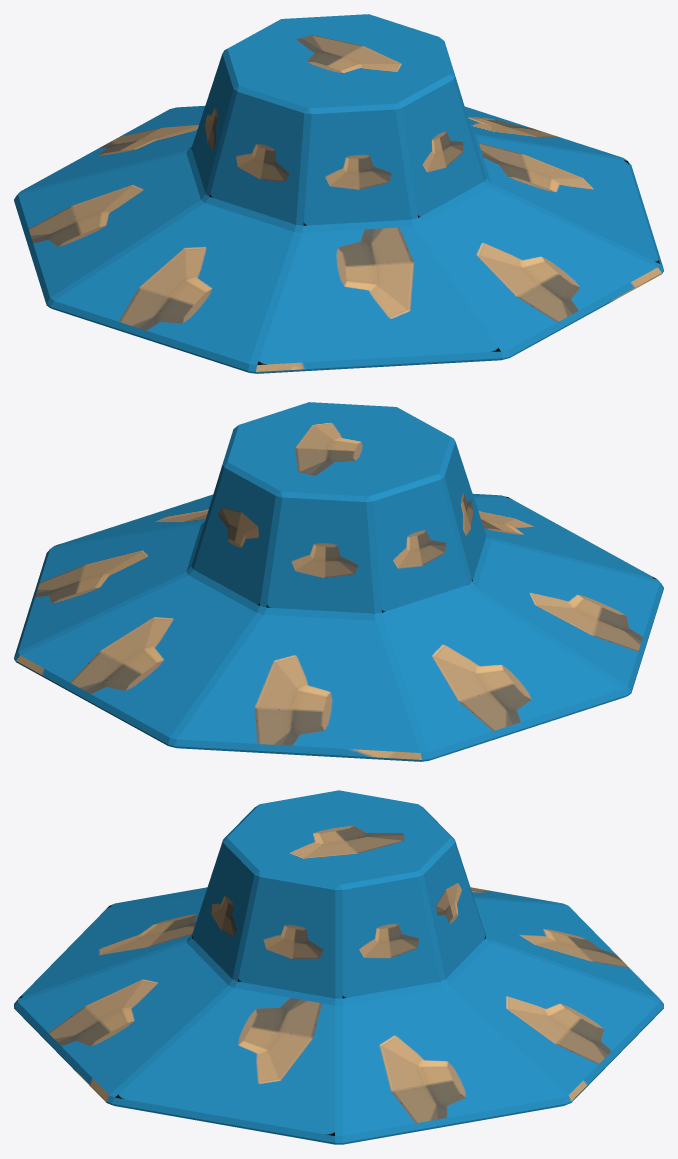
File: grassyHat.fbx
3 views of the same model, one above another, from view 1: azimuth 30°, elevation 25°; view 2: azimuth 150°, elevation 25°; view 3: azimuth 270°, elevation 25° (orthographic). The views are drawn at different scales.
Parts seen in each view (by area): view 1: Cylinder; view 2: Cylinder; view 3: Cylinder.
Boxes of the visible parts, bbox=[...] form: Cylinder: bbox=[14, 14, 663, 373]; Cylinder: bbox=[14, 402, 663, 761]; Cylinder: bbox=[14, 790, 663, 1144].
Size of the model in its own units: 559 by 163 by 559.
